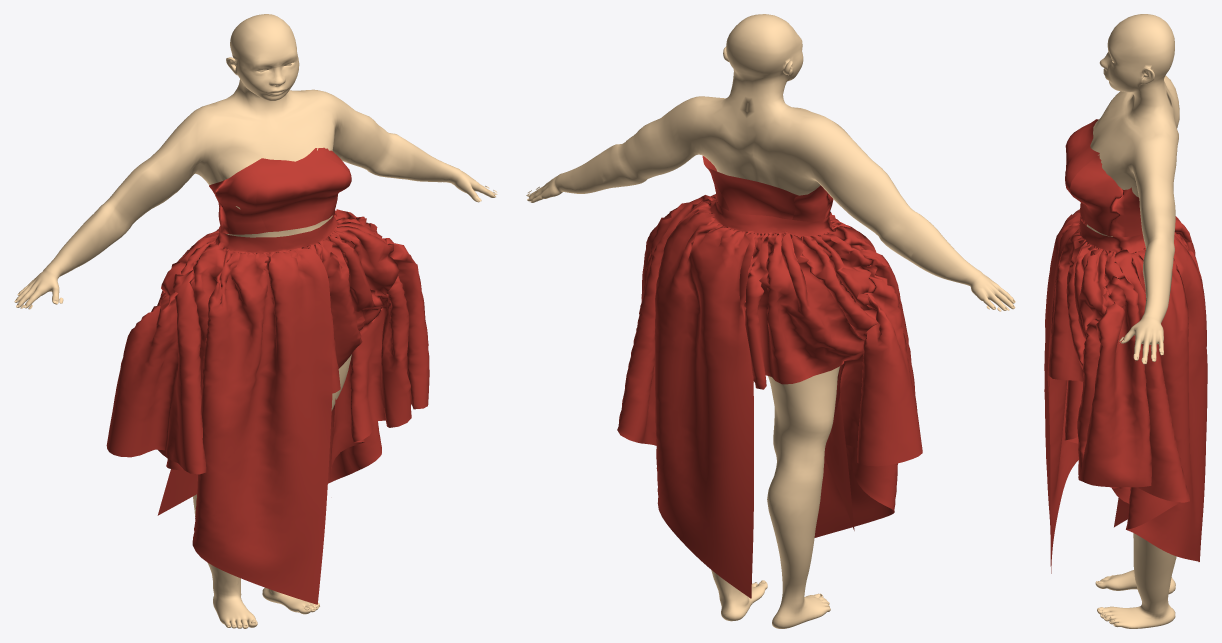
Rendered from dress2.glb.
3 renders of one model, left to right at view 1: azimuth 30°, elevation 25°; view 2: azimuth 150°, elevation 25°; view 3: azimuth 270°, elevation 25°, orthographic.
Visible parts, largest first — view 1: Project 1, Body; view 2: Project 1, Body; view 3: Project 1, Body.
Part boxes in pixels (x1,y1,x2,y2): Project 1: (106,147,429,604); Body: (14,14,495,628); Project 1: (617,156,922,598); Body: (527,14,1015,628); Project 1: (1044,119,1207,573); Body: (1086,14,1179,628).
Bounding box in the file's own units: 1.59 × 1.88 × 0.4668.
